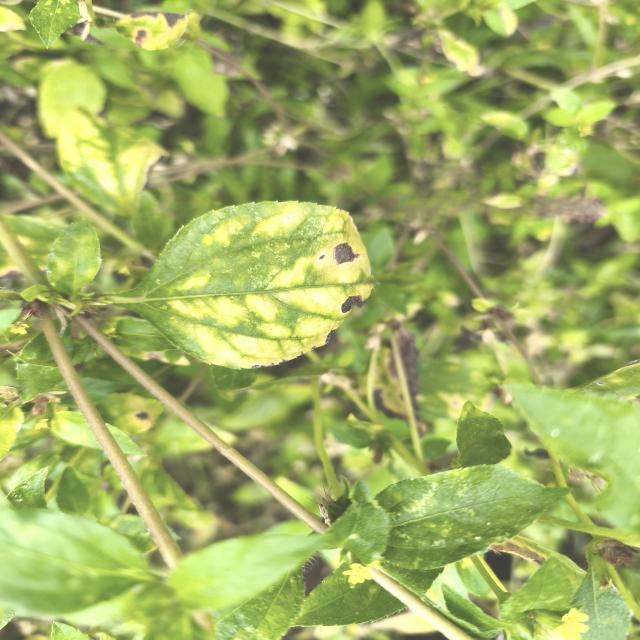Virus Kuning: (98, 198, 376, 370), (368, 463, 574, 571)
